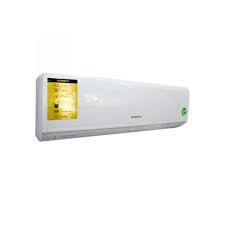ac: (32, 68, 192, 144)
